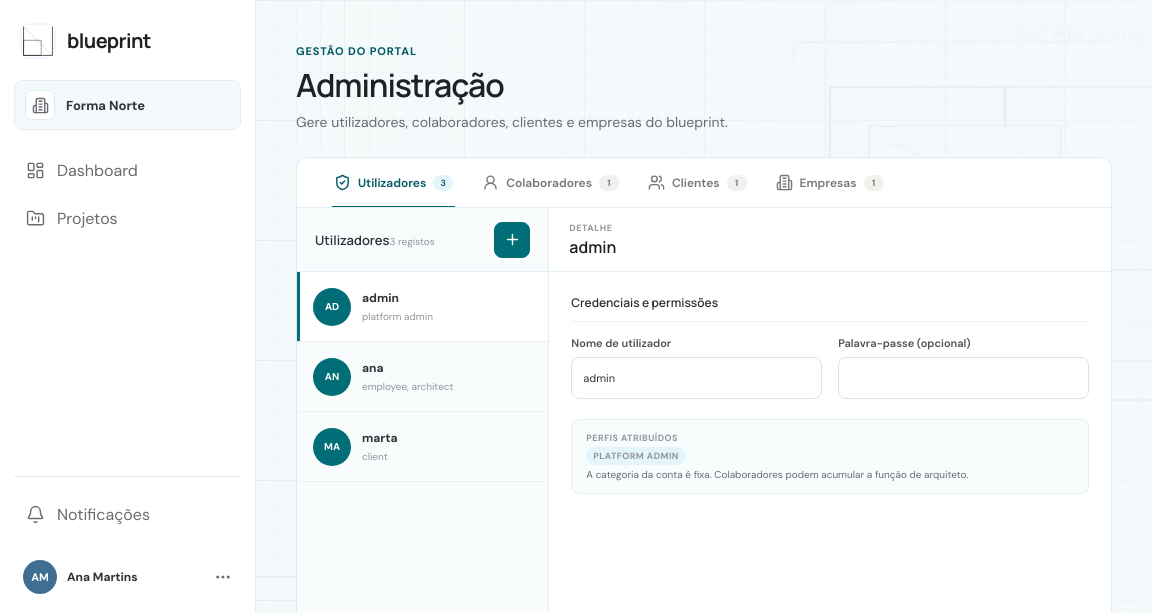
it: AdministrationPage › shows inactive relationships but prevents new associations and makes inactive companies read-only
Click the tab "Colaboradores 1" at (551, 182), box [469, 158, 632, 207]
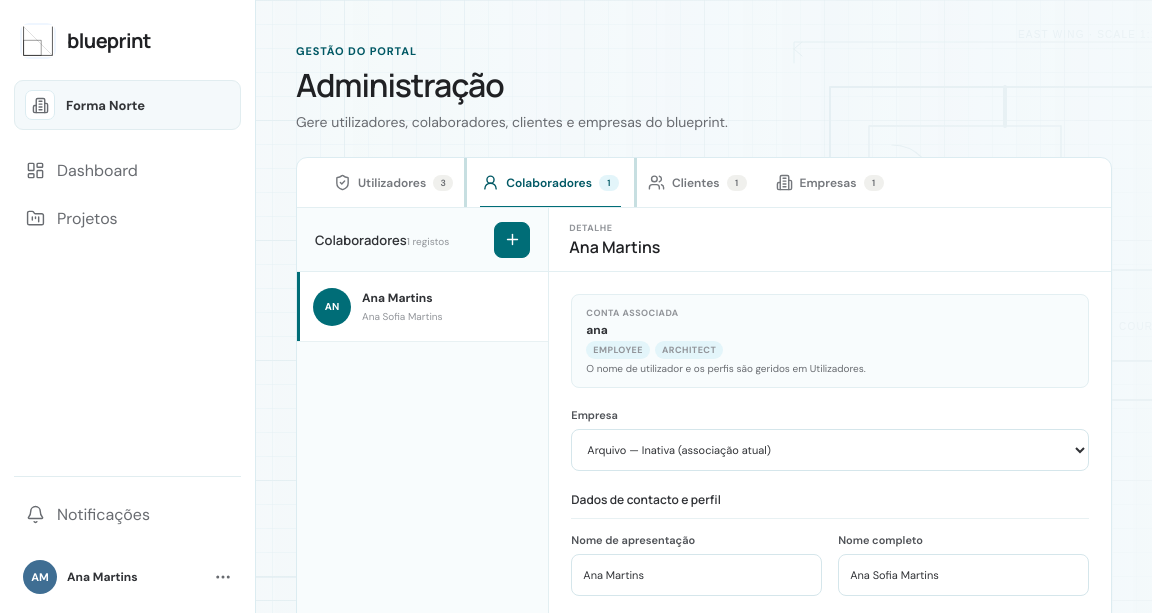
Expected: the dropdown labelled "Empresa" shows "Arquivo — Inativa (associação atual)", [571, 429, 1089, 471]
Click the tab "Empresas 1" at (830, 182), box [762, 158, 896, 207]
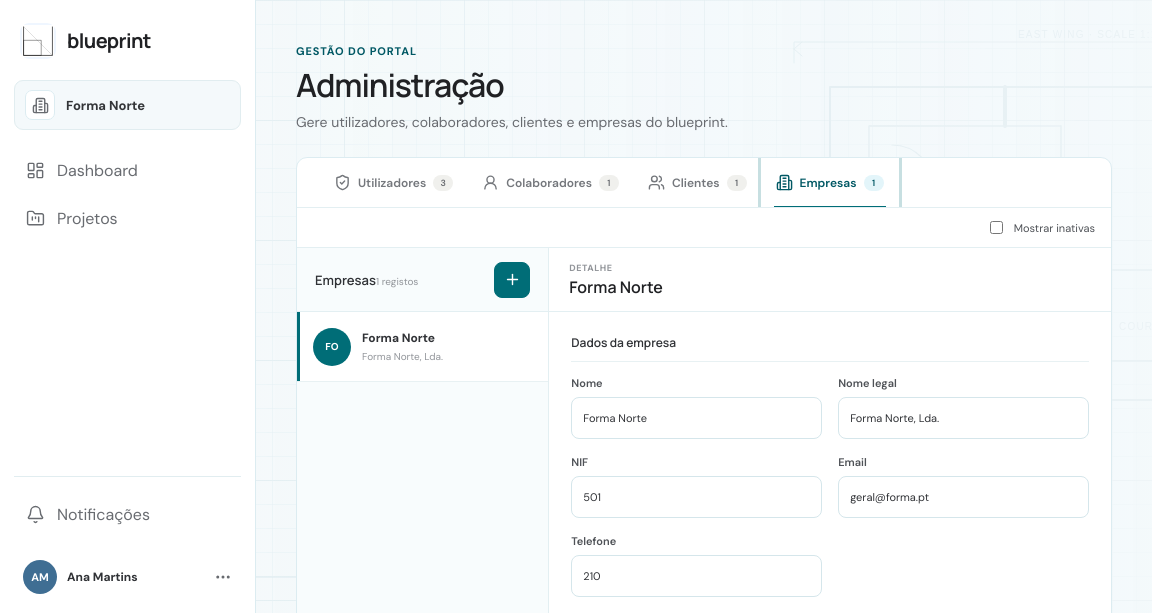
Click the checkbox labelled "Mostrar inativas" at (996, 228), box [990, 221, 1003, 234]
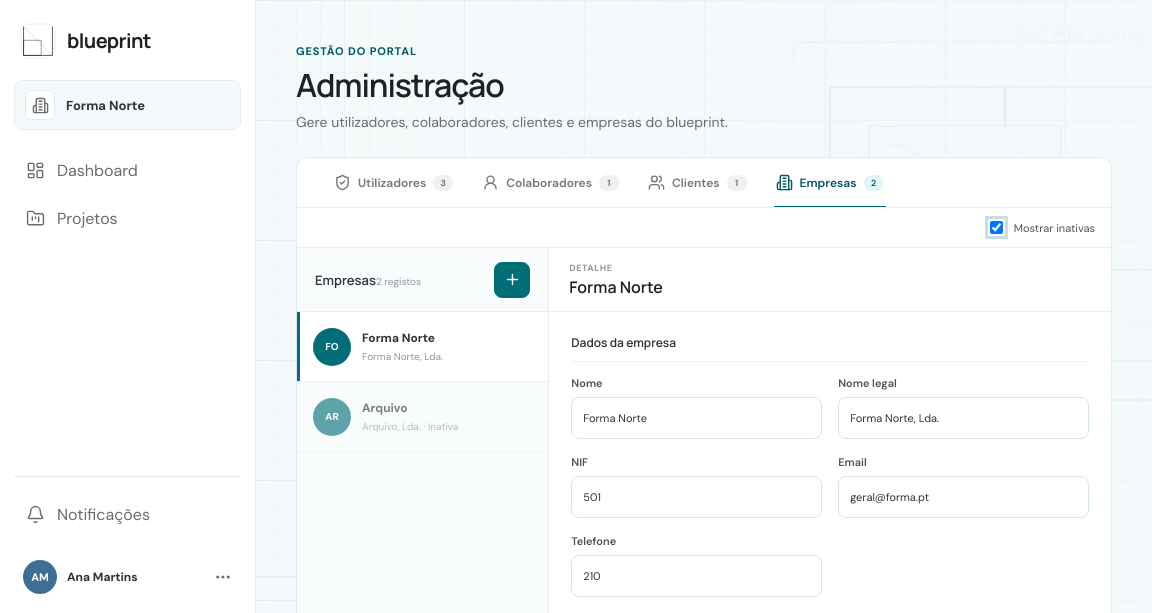
Click the button "AR Arquivo Arquivo, Lda. · Inativa" at (423, 417), box [297, 382, 548, 452]
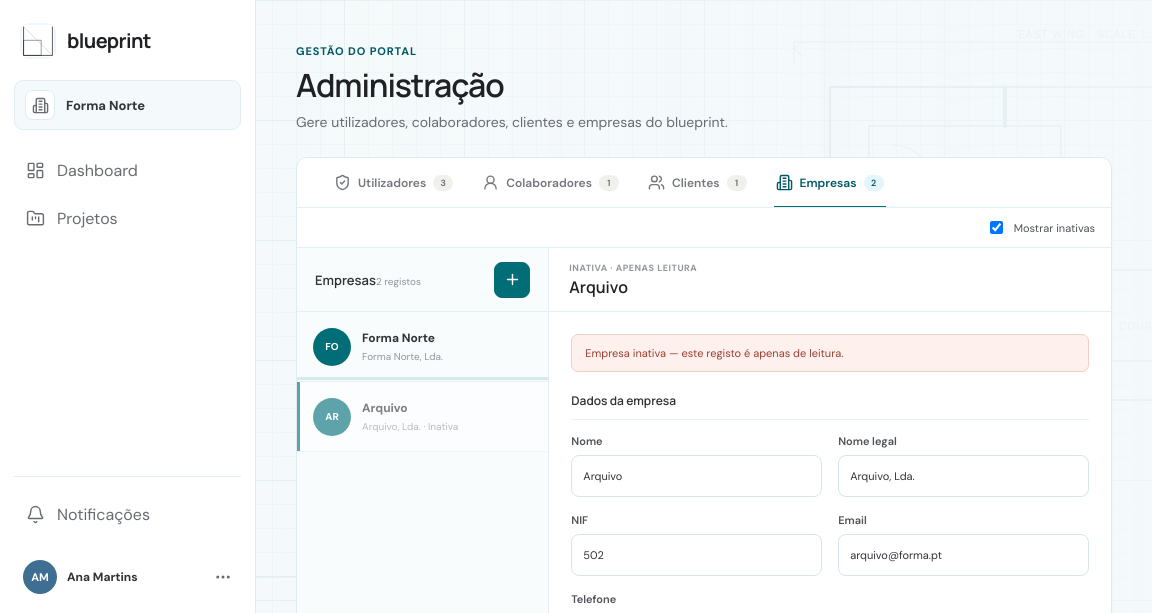
Expected: the text "Empresa inativa — este registo é apenas de leitura." is shown, [571, 334, 1089, 372]
